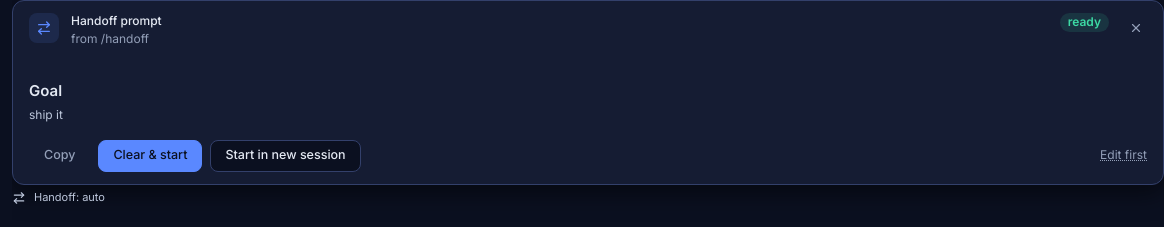
Scenario: HandoffModeToggle (per session) › a failed save restores the old mode and says so
Click the button with test id "handoff-mode" at (58, 198), box [12,185,105,211]
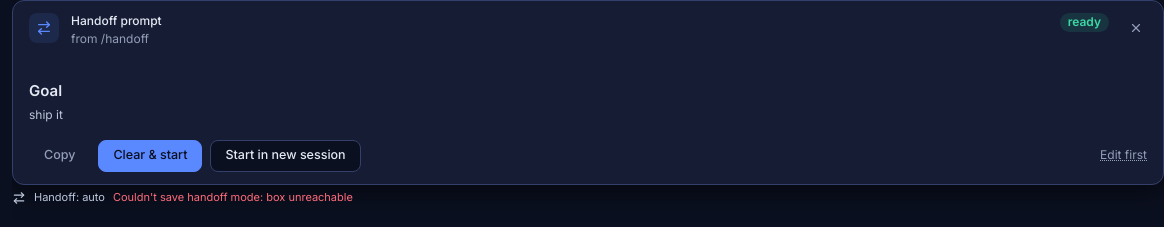
Check: the message "Couldn't save handoff mode: box unreachable" is shown, box [113,192,353,203]
